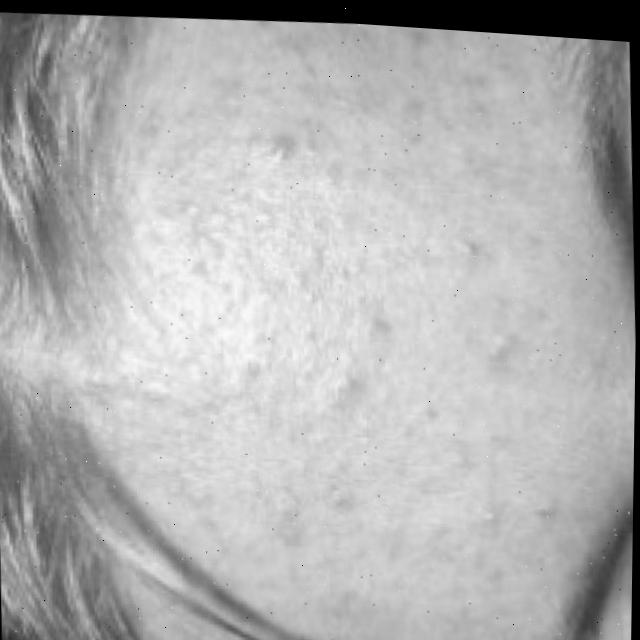Acne: (170, 23, 556, 640)
